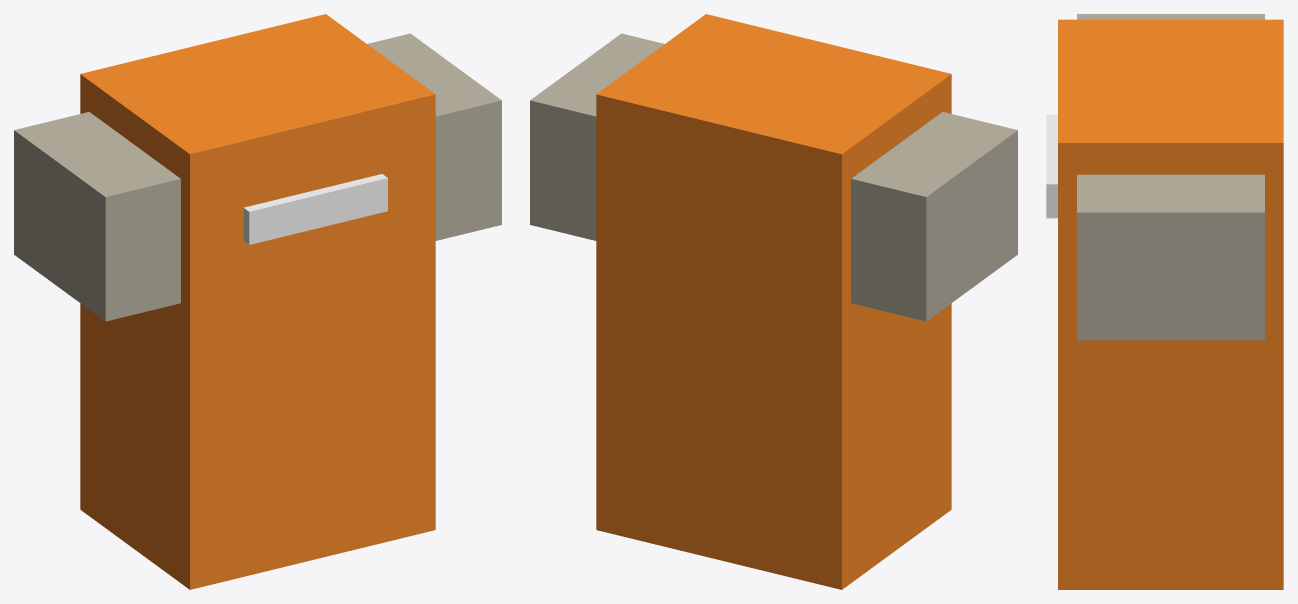
The model's file is slowBruteLaunched.obj.
3 views of the same model, side by side, from view 1: azimuth 30°, elevation 25°; view 2: azimuth 150°, elevation 25°; view 3: azimuth 270°, elevation 25° (orthographic). The views are drawn at different scales.
Bounding box in the file's own units: 2 × 2.1 × 1.01.
